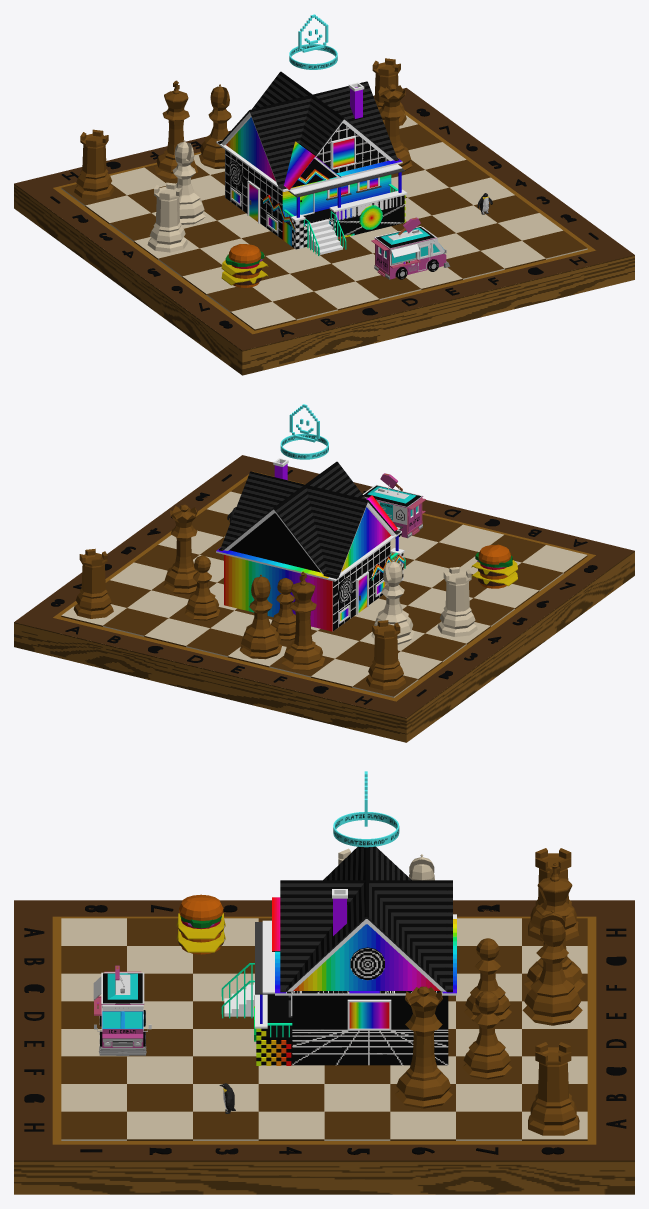
3 renders of one model, top to bottom at view 1: azimuth 30°, elevation 25°; view 2: azimuth 150°, elevation 25°; view 3: azimuth 270°, elevation 25°, orthographic. The views are drawn at different scales.
Visible parts, largest first — view 1: Cube.002, Cube.1320, VEHICLES_ICE_CREAM_TRUCK, OBJRANDOM_HAMBURGER, TYPE_PREMIUM; view 2: Cube.002, Cube.1320, VEHICLES_ICE_CREAM_TRUCK, OBJRANDOM_HAMBURGER, TYPE_PREMIUM; view 3: Cube.002, Cube.1320, VEHICLES_ICE_CREAM_TRUCK, OBJRANDOM_HAMBURGER, TYPE_PREMIUM.
Part boxes in pixels (bbox=[...]): Cube.002: bbox=[14, 58, 634, 375]; Cube.1320: bbox=[216, 71, 407, 255]; VEHICLES_ICE_CREAM_TRUCK: bbox=[371, 217, 450, 279]; OBJRANDOM_HAMBURGER: bbox=[221, 244, 268, 287]; TYPE_PREMIUM: bbox=[289, 14, 337, 69]; Cube.002: bbox=[14, 455, 634, 742]; Cube.1320: bbox=[216, 458, 405, 631]; VEHICLES_ICE_CREAM_TRUCK: bbox=[362, 473, 425, 538]; OBJRANDOM_HAMBURGER: bbox=[471, 544, 517, 588]; TYPE_PREMIUM: bbox=[280, 404, 328, 459]; Cube.002: bbox=[14, 848, 634, 1194]; Cube.1320: bbox=[221, 846, 456, 1065]; VEHICLES_ICE_CREAM_TRUCK: bbox=[93, 965, 151, 1055]; OBJRANDOM_HAMBURGER: bbox=[176, 894, 225, 954]; TYPE_PREMIUM: bbox=[333, 771, 399, 847].
Size of the model in its own units: 3981 by 2128 by 4012.
Materials: 43 (6 with a texture image).
